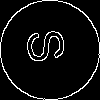S: (25, 25, 76, 66)
